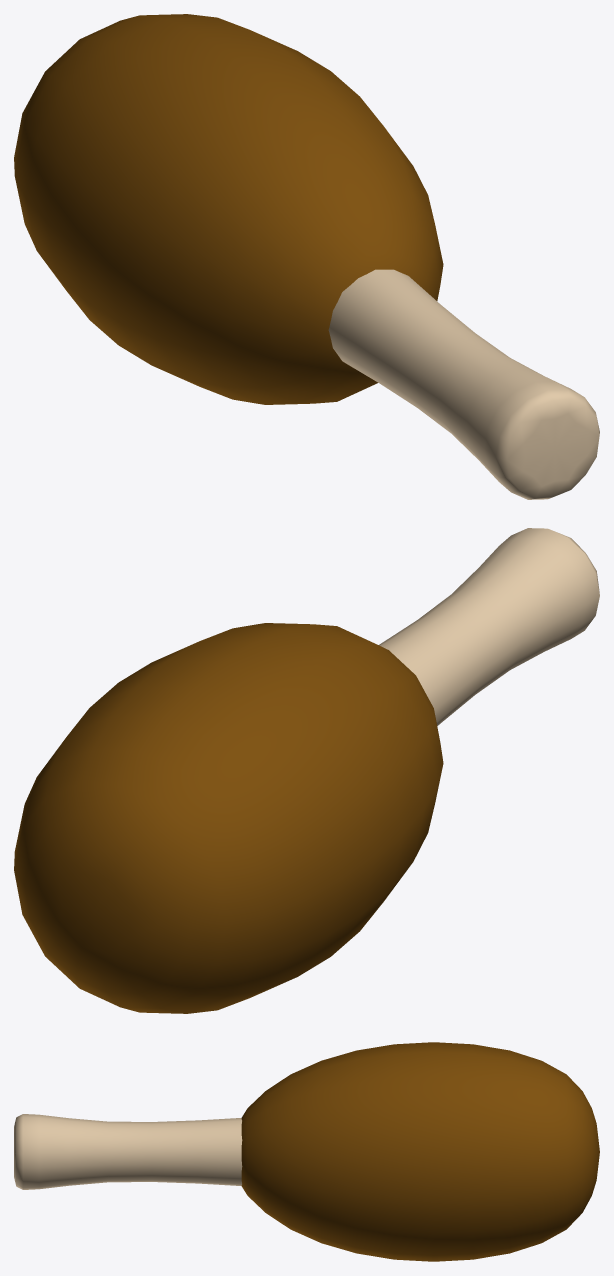
File: CookedChickenMat.fbx
3 views of the same model, one above another, from view 1: azimuth 30°, elevation 25°; view 2: azimuth 150°, elevation 25°; view 3: azimuth 270°, elevation 25° (orthographic). The views are drawn at different scales.
Visible parts, largest first — view 1: Chicken, Bone; view 2: Chicken, Bone; view 3: Chicken, Bone.
Part boxes in pixels (x1,y1,x2,y2): Chicken: (14, 14, 443, 404); Bone: (328, 269, 599, 499); Chicken: (14, 623, 443, 1013); Bone: (379, 528, 599, 725); Chicken: (241, 1042, 599, 1261); Bone: (14, 1114, 242, 1189).
Bounding box in the file's own units: 5.42 × 5.42 × 14.39.
